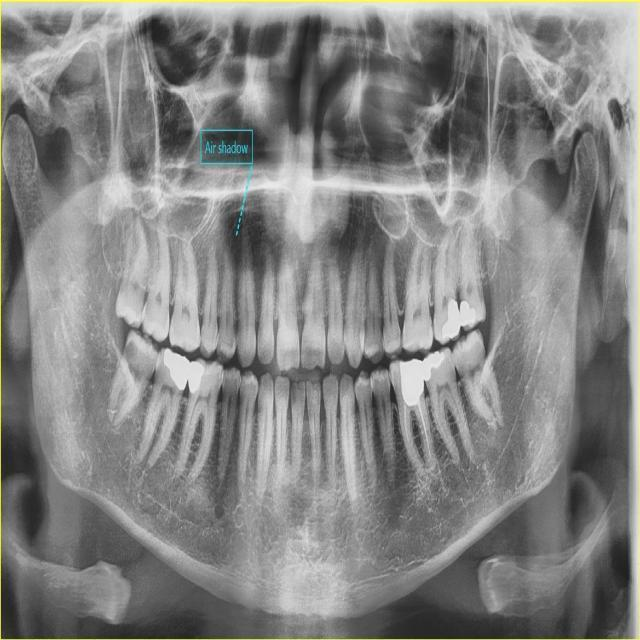Filling: (400, 358, 424, 405), (163, 349, 189, 390), (442, 298, 460, 339), (421, 351, 444, 381), (188, 361, 204, 394), (460, 301, 475, 327)
Periapical lesion: (215, 444, 233, 498), (431, 454, 441, 477)
Root Canal Treatment: (417, 397, 430, 459), (404, 401, 411, 447)
